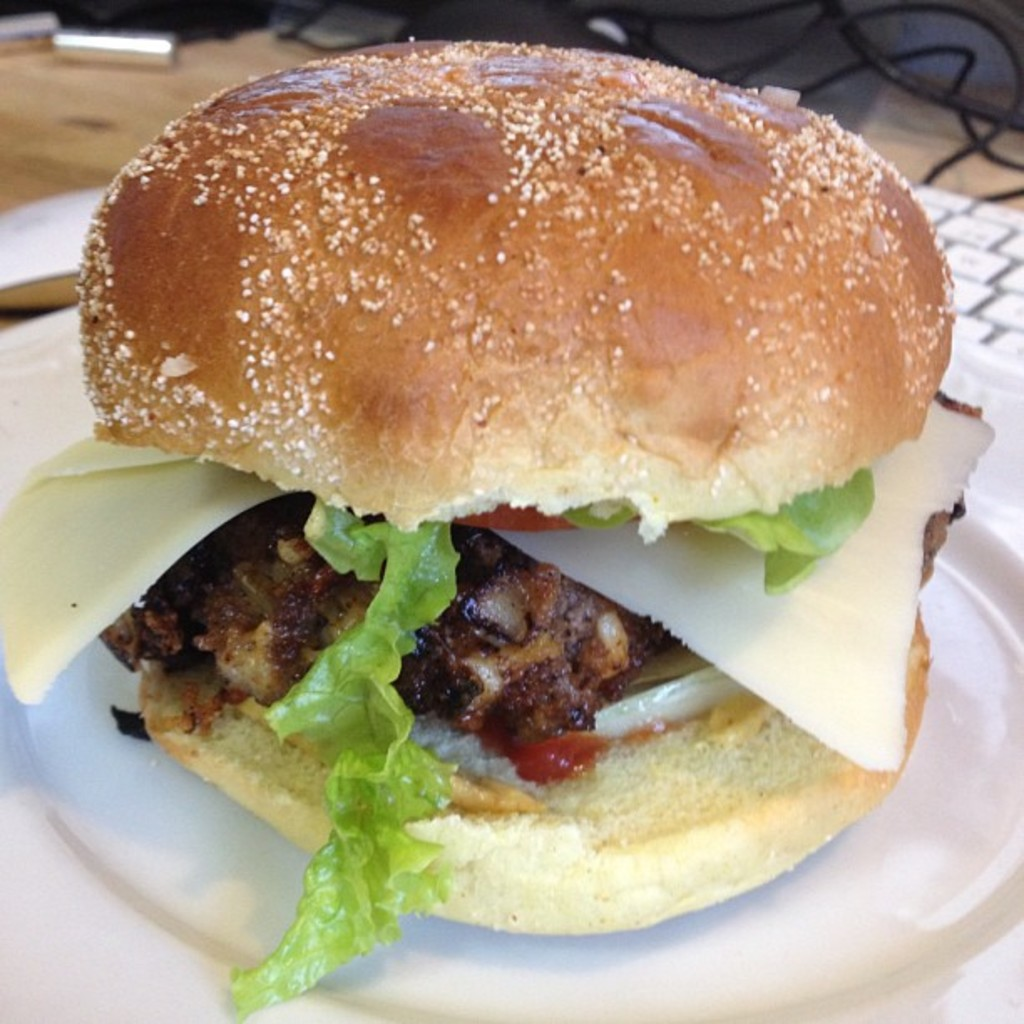Hamburger: (0, 40, 995, 1022)
